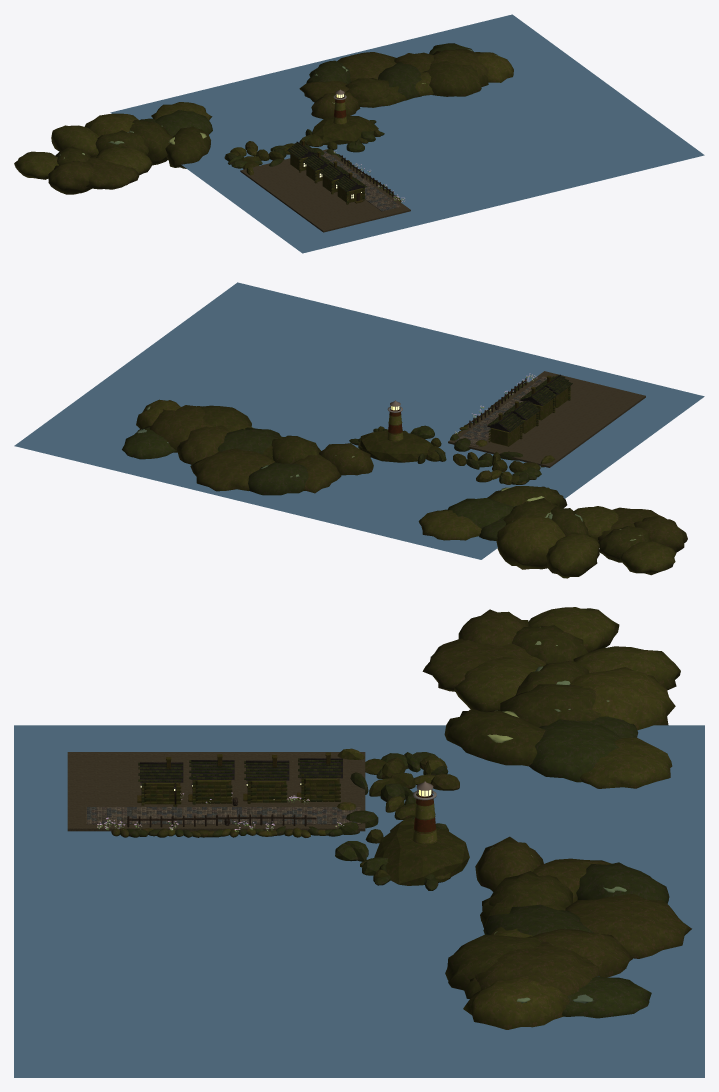
File: lighthouse-0.glb
3 views of the same model, one above another, from view 1: azimuth 30°, elevation 25°; view 2: azimuth 150°, elevation 25°; view 3: azimuth 270°, elevation 25° (orthographic). The views are drawn at different scales.
Visible parts, largest first — view 1: Open sea, Broken cliffs on the far shore, Terrain, Granite boulders at the tide line, Lighthouse headland, Individual slate shingles, Cobbles along the sea village, Cottage stone walls, Timber gable and slate roof; view 2: Open sea, Broken cliffs on the far shore, Terrain, Granite boulders at the tide line, Lighthouse headland, Individual slate shingles, Cottage stone walls, Cobbles along the sea village, Timber gable and slate roof; view 3: Open sea, Broken cliffs on the far shore, Terrain, Granite boulders at the tide line, Cobbles along the sea village, Lighthouse headland, Individual slate shingles, Rough cottage wall courses, Cottage stone walls, Timber gable and slate roof, Rocky shelf below the village lane, Painted lighthouse masonry.
Part boxes in pixels (x1,y1,x2,y2): Open sea: [110, 14, 704, 253]; Broken cliffs on the far shore: [14, 43, 513, 194]; Terrain: [240, 149, 410, 232]; Granite boulders at the tide line: [224, 120, 384, 175]; Lighthouse headland: [312, 116, 378, 145]; Individual slate shingles: [287, 142, 366, 191]; Cobbles along the sea village: [320, 151, 400, 210]; Cottage stone walls: [290, 153, 362, 202]; Timber gable and slate roof: [287, 143, 364, 191]; Open sea: [14, 282, 704, 559]; Broken cliffs on the far shore: [122, 399, 687, 578]; Terrain: [448, 371, 645, 467]; Granite boulders at the tide line: [349, 425, 555, 484]; Lighthouse headland: [360, 430, 433, 462]; Individual slate shingles: [487, 375, 572, 431]; Cottage stone walls: [490, 388, 568, 446]; Cobbles along the sea village: [456, 376, 546, 445]; Timber gable and slate roof: [487, 377, 571, 432]; Open sea: [14, 725, 704, 1077]; Broken cliffs on the far shore: [422, 607, 691, 1029]; Terrain: [67, 752, 365, 831]; Granite boulders at the tide line: [335, 748, 459, 890]; Cobbles along the sea village: [87, 807, 356, 823]; Lighthouse headland: [374, 824, 469, 885]; Individual slate shingles: [138, 758, 342, 781]; Rough cottage wall courses: [144, 783, 340, 804]; Cottage stone walls: [144, 778, 339, 803]; Timber gable and slate roof: [140, 760, 342, 782]; Rocky shelf below the village lane: [111, 826, 342, 837]; Painted lighthouse masonry: [412, 794, 437, 843].
Size of the model in its own units: 92.39 by 10.36 by 58.
9 materials, 4 textured.
